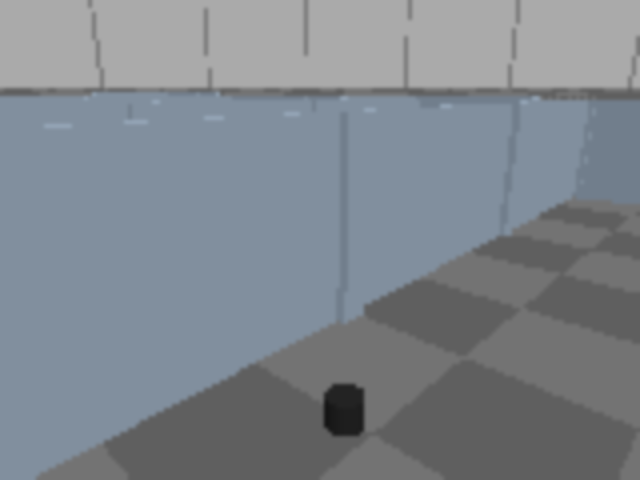puck: (330, 386, 361, 434)
